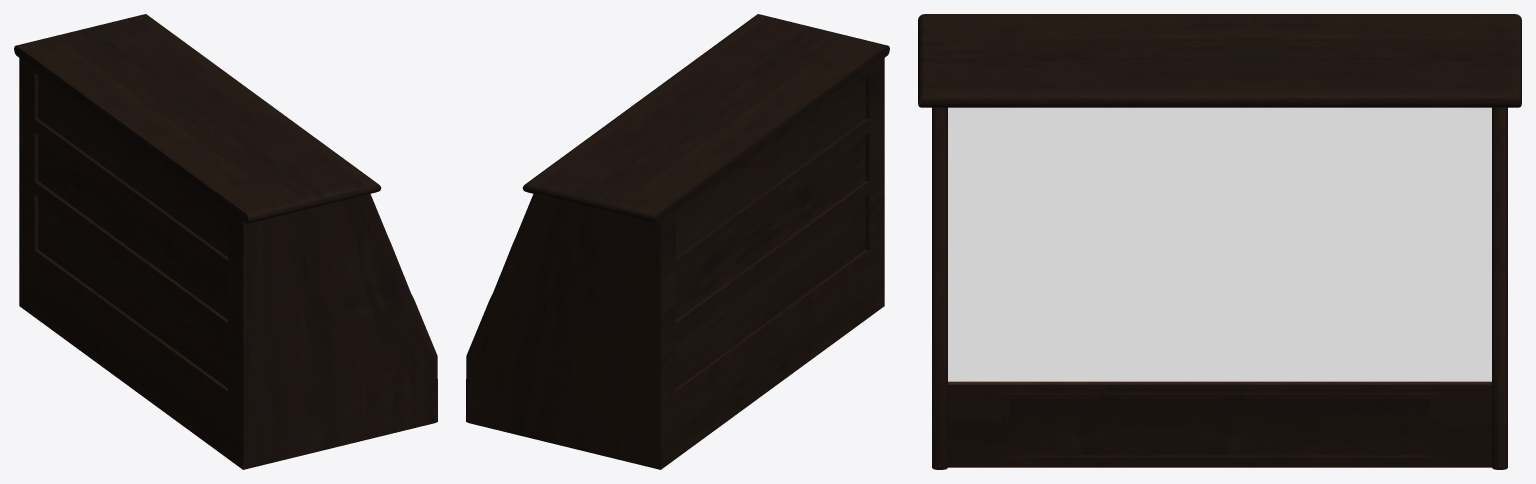
File: Displaycasecounter.fbx
3 views of the same model, side by side, from view 1: azimuth 30°, elevation 25°; view 2: azimuth 150°, elevation 25°; view 3: azimuth 270°, elevation 25° (orthographic). The views are drawn at different scales.
Visible parts, largest first — view 1: DisplayCounter; view 2: DisplayCounter; view 3: DisplayCounter.
Boxes of the visible parts, left/top/right/bottom form: DisplayCounter: left=14, top=14, right=437, bottom=469; DisplayCounter: left=466, top=14, right=889, bottom=469; DisplayCounter: left=918, top=14, right=1521, bottom=469.
Size of the model in its own units: 3.15 by 3.96 by 6.52.
2 materials, 1 textured.
